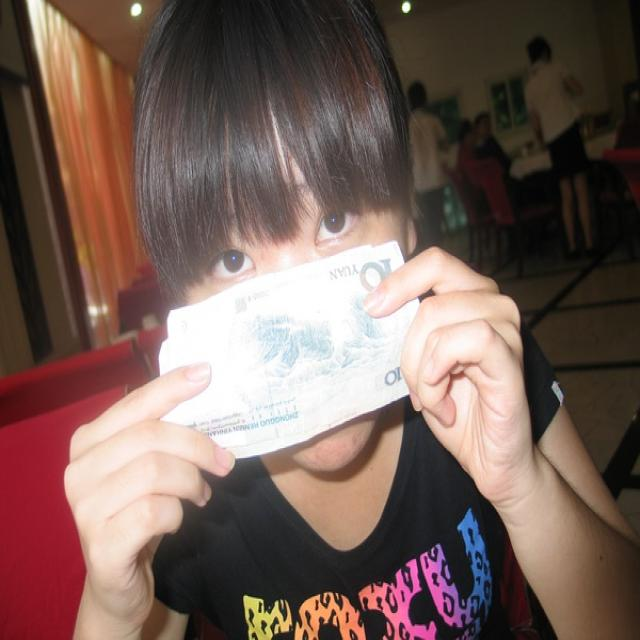nomask: (173, 172, 407, 472)
